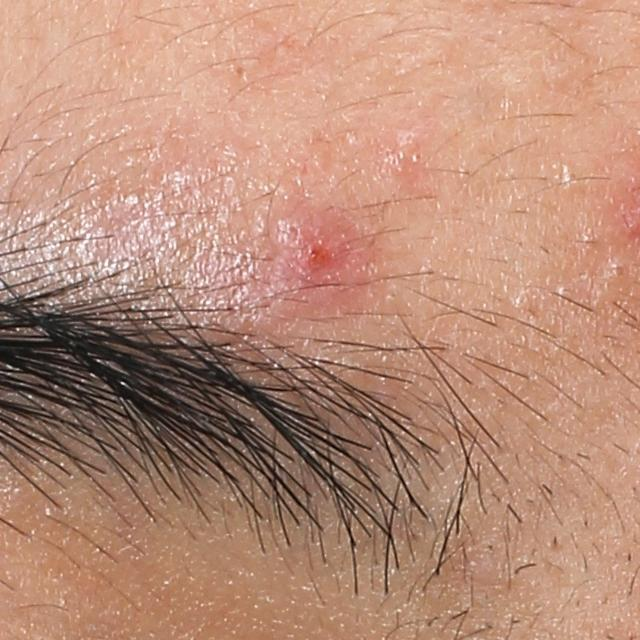comedo: (229, 60, 253, 80)
